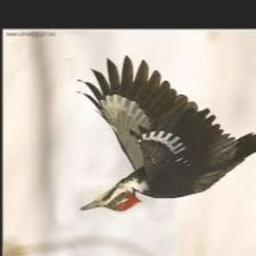Woodpecker: (76, 55, 256, 212)
